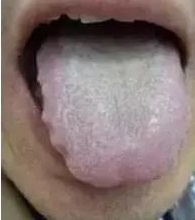baitaishe: (35, 37, 189, 188)
chihenshe: (38, 80, 68, 166)
